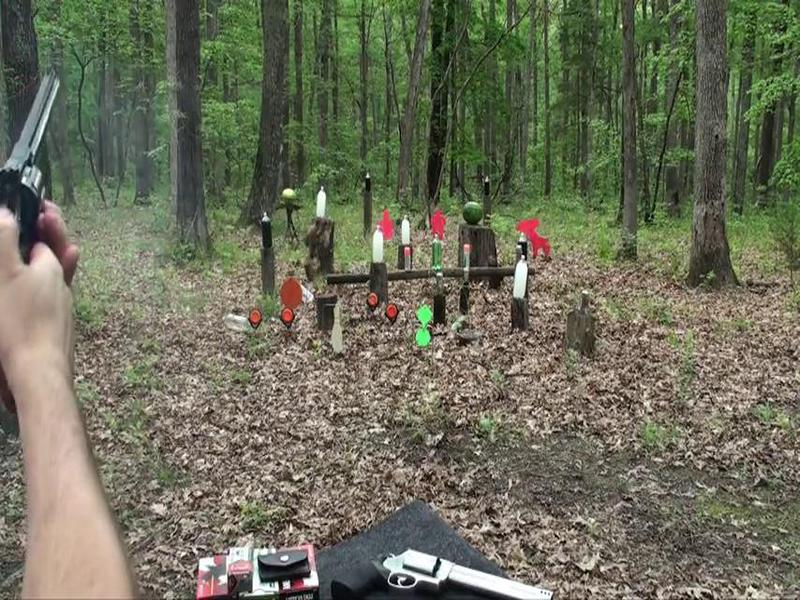Revolver: (1, 58, 98, 295)
